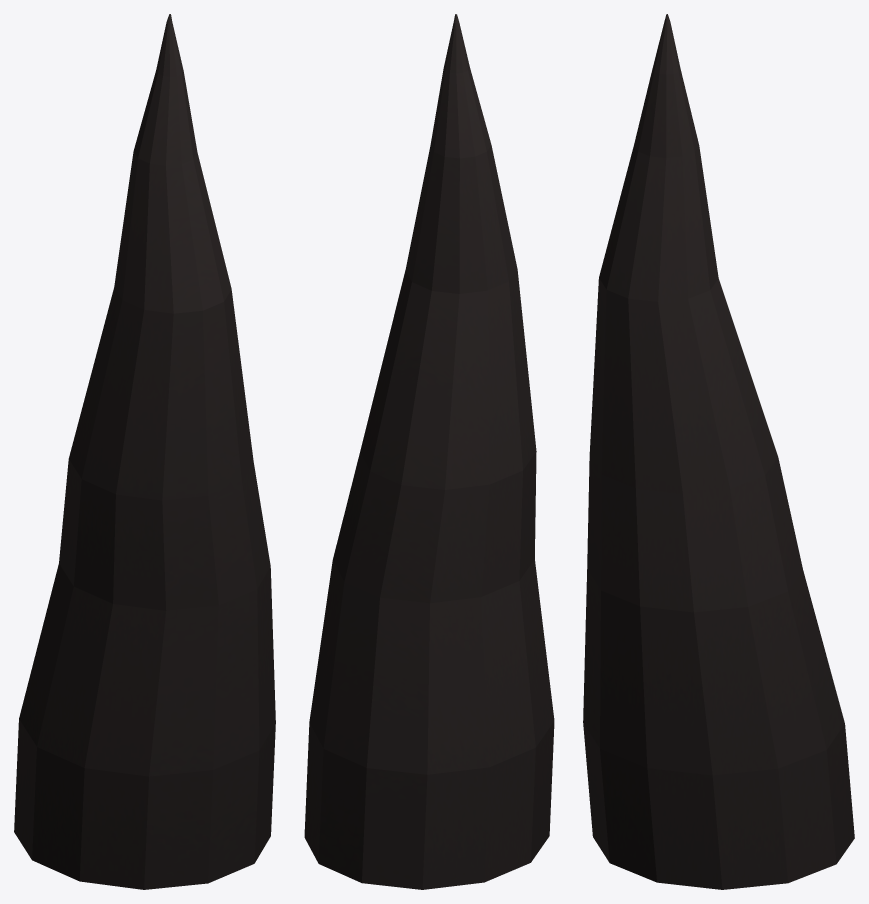
Rendered from stalac_02.fbx.
The picture shows the model from 3 angles, left to right: view 1: azimuth 30°, elevation 25°; view 2: azimuth 150°, elevation 25°; view 3: azimuth 270°, elevation 25°; orthographic projection. The views are drawn at different scales.
Parts seen in each view (by area): view 1: Stalac_02; view 2: Stalac_02; view 3: Stalac_02.
Part boxes in pixels (<box>): Stalac_02: <box>14,14,275,889</box>; Stalac_02: <box>304,14,554,889</box>; Stalac_02: <box>583,14,854,889</box>.
Bounding box in the file's own units: 2.15 × 7.88 × 2.36.
Materials: 1 (1 with a texture image).
